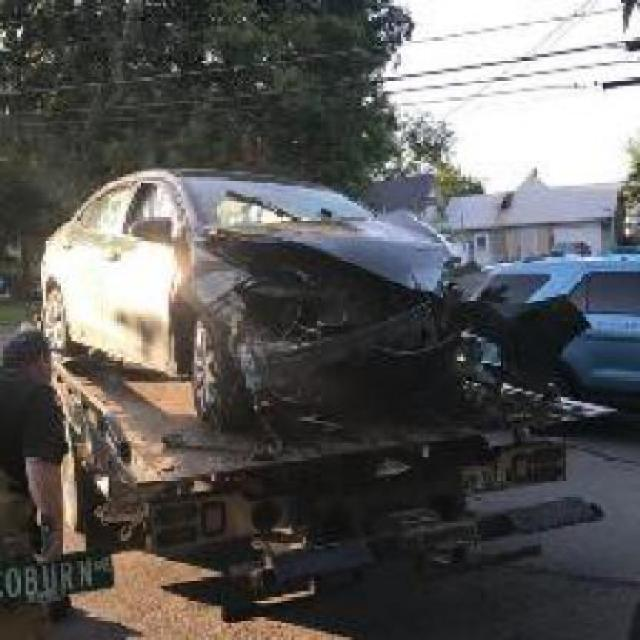damaged-hood: (198, 216, 477, 302)
damaged-windscreen: (157, 157, 385, 225)
